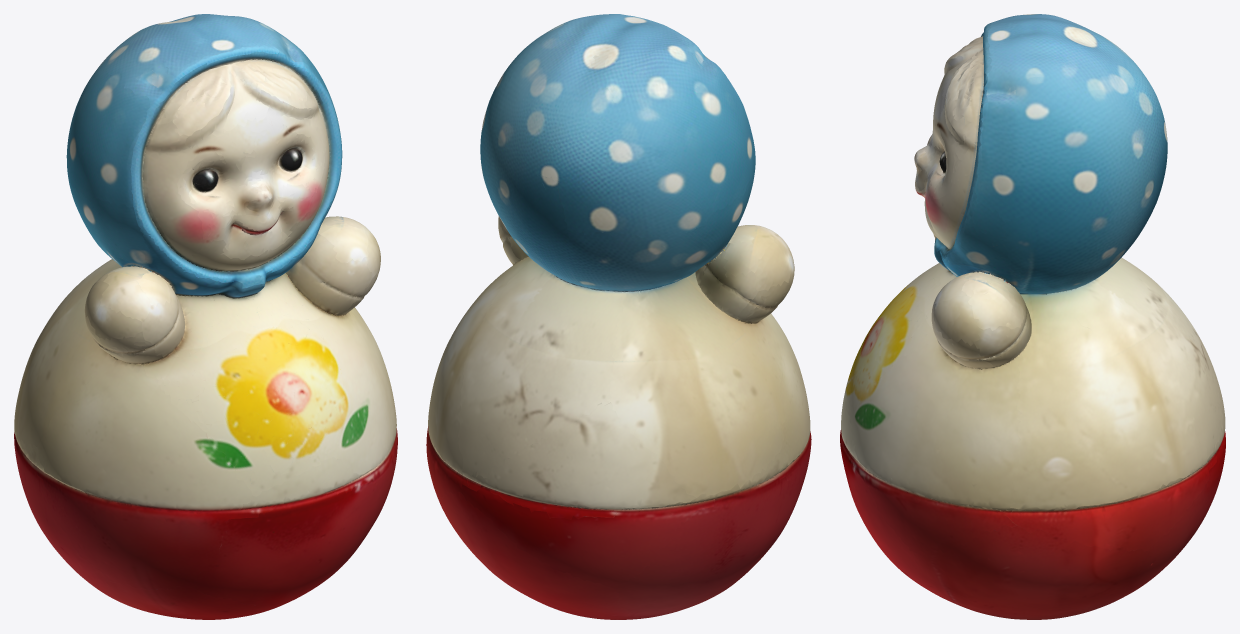
The model's file is roly-poly.glb.
3 renders of one model, left to right at view 1: azimuth 30°, elevation 25°; view 2: azimuth 150°, elevation 25°; view 3: azimuth 270°, elevation 25°, orthographic.
Visible parts, largest first — view 1: geometry_0; view 2: geometry_0; view 3: geometry_0.
Boxes of the visible parts, bbox=[...] form: geometry_0: bbox=[14, 14, 397, 619]; geometry_0: bbox=[426, 14, 811, 619]; geometry_0: bbox=[840, 14, 1225, 619].
Size of the model in its own units: 0.0902 by 0.15 by 0.0915.
1 material, 1 textured.
